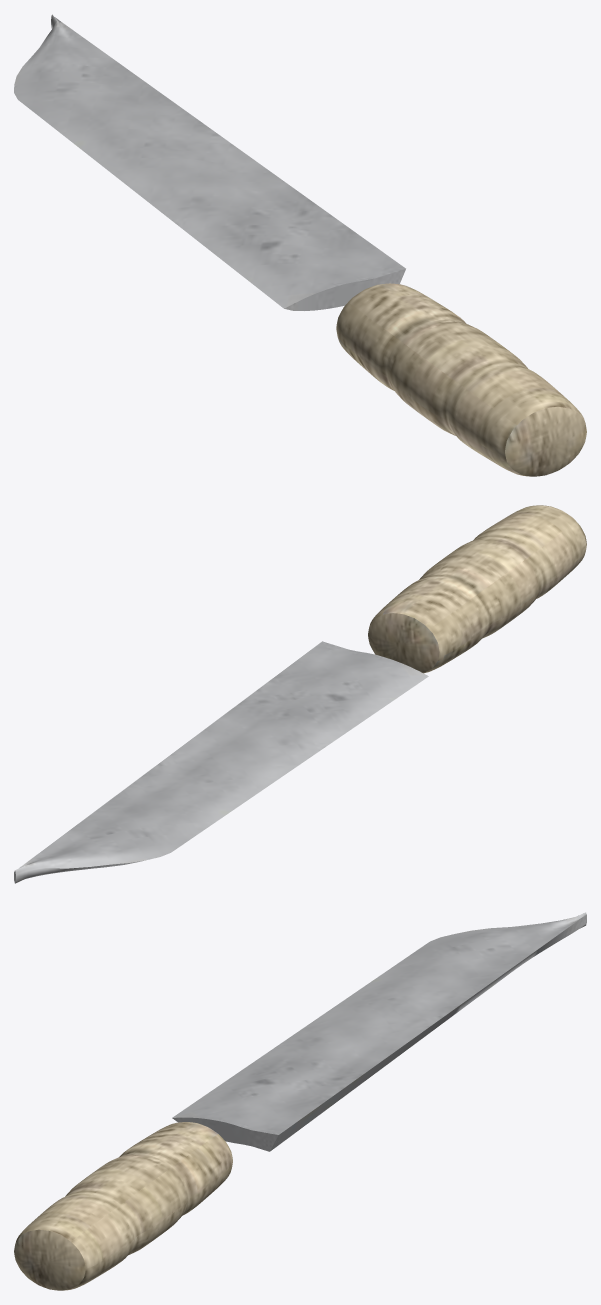
Rendered from hunting_knife.glb.
3 renders of one model, top to bottom at view 1: azimuth 30°, elevation 25°; view 2: azimuth 150°, elevation 25°; view 3: azimuth 330°, elevation 25°, orthographic. The views are drawn at different scales.
Parts seen in each view (by area): view 1: hunting_knife; view 2: hunting_knife; view 3: hunting_knife.
Part boxes in pixels (<box>): hunting_knife: <box>14,14,586,476</box>; hunting_knife: <box>14,505,586,883</box>; hunting_knife: <box>14,912,586,1290</box>.
Bounding box in the file's own units: 0.04 × 0.0258 × 0.3159.
1 material, 1 textured.
